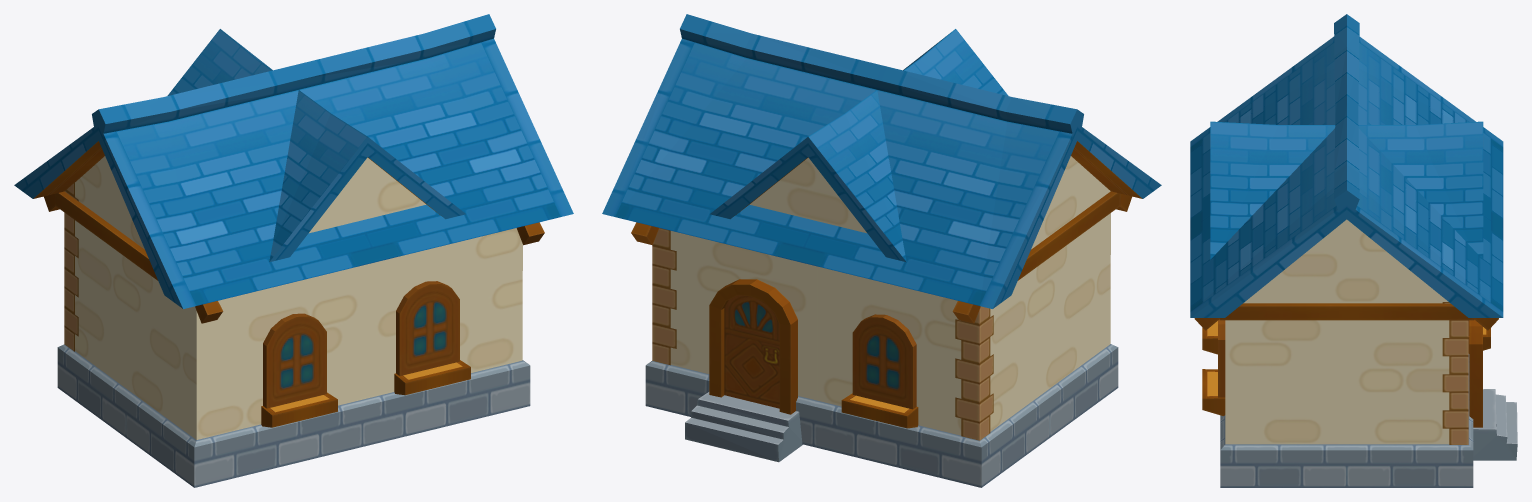
The model's file is HOS0110003.FBX.
3 renders of one model, left to right at view 1: azimuth 30°, elevation 25°; view 2: azimuth 150°, elevation 25°; view 3: azimuth 270°, elevation 25°, orthographic. The views are drawn at different scales.
Visible parts, largest first — view 1: smHOS0110003; view 2: smHOS0110003; view 3: smHOS0110003.
Part boxes in pixels (bbox=[...]): smHOS0110003: bbox=[14, 14, 573, 487]; smHOS0110003: bbox=[602, 14, 1161, 487]; smHOS0110003: bbox=[1190, 14, 1517, 487].
Size of the model in its own units: 796 by 655 by 625.
